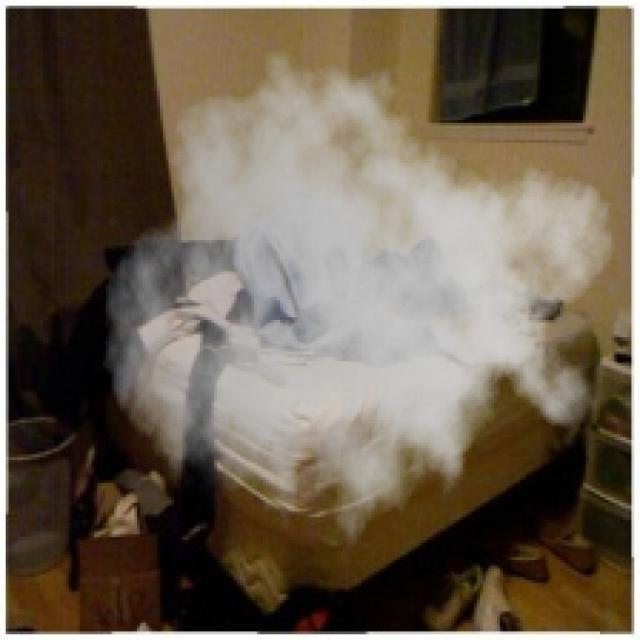smoke: (103, 37, 617, 572)
